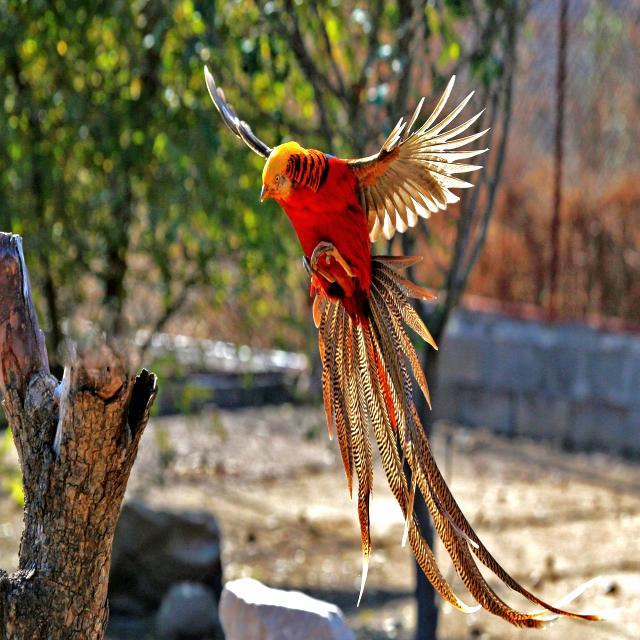Chrysolophus pictus feather: (319, 262, 576, 627)
